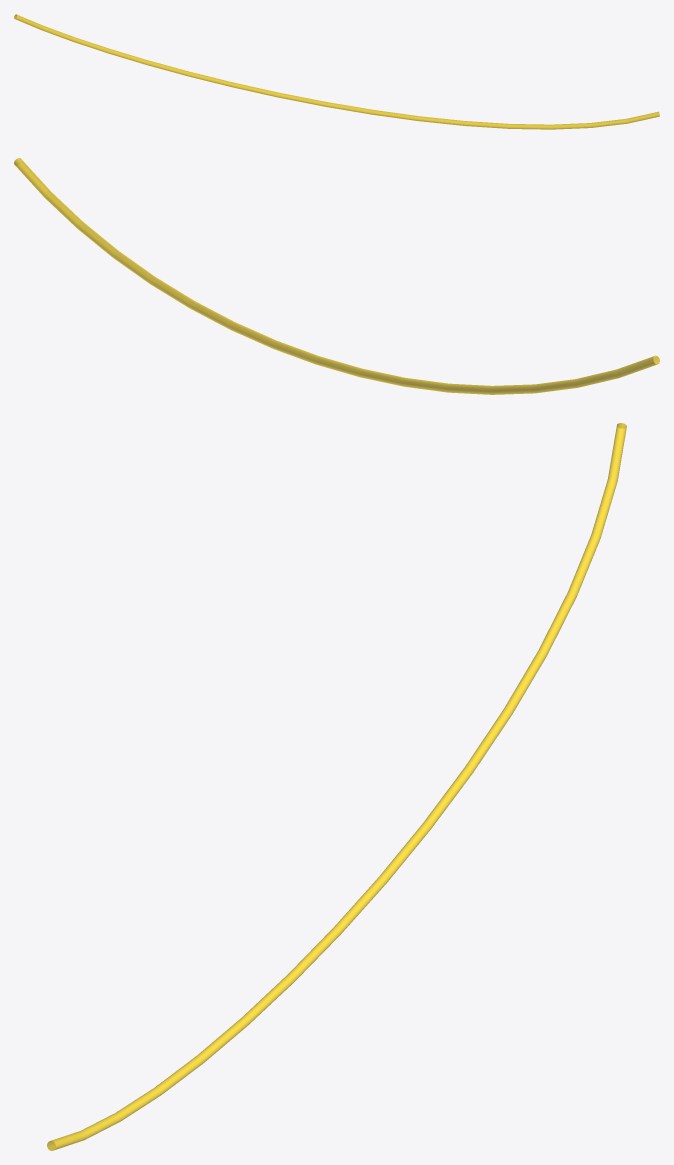
File: Event_31209032_track_6.fbx
The picture shows the model from 3 angles, top to bottom: view 1: azimuth 30°, elevation 25°; view 2: azimuth 150°, elevation 25°; view 3: azimuth 270°, elevation 25°; orthographic projection. The views are drawn at different scales.
Visible parts, largest first — view 1: Model; view 2: Model; view 3: Model.
Part boxes in pixels (box(x1,y1,x2,y2)): Model: box(14, 14, 659, 129); Model: box(14, 158, 659, 394); Model: box(47, 423, 626, 1150).
Size of the model in its own units: 4.58 by 1.15 by 2.28.
